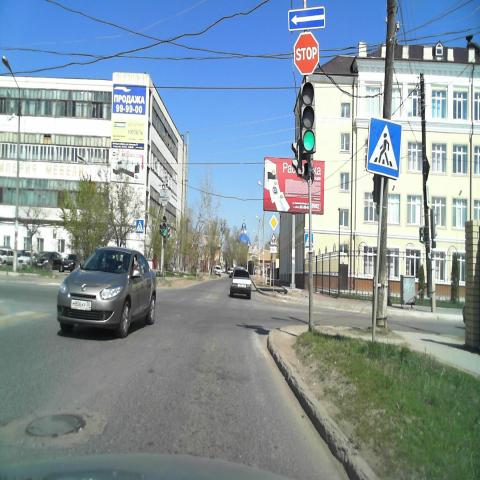1_23: (270, 232, 278, 245)
2_1: (269, 214, 279, 232)
2_5: (294, 32, 319, 75)
5_19_1: (366, 117, 403, 180), (136, 219, 144, 233)
5_7_2: (288, 6, 325, 31)
